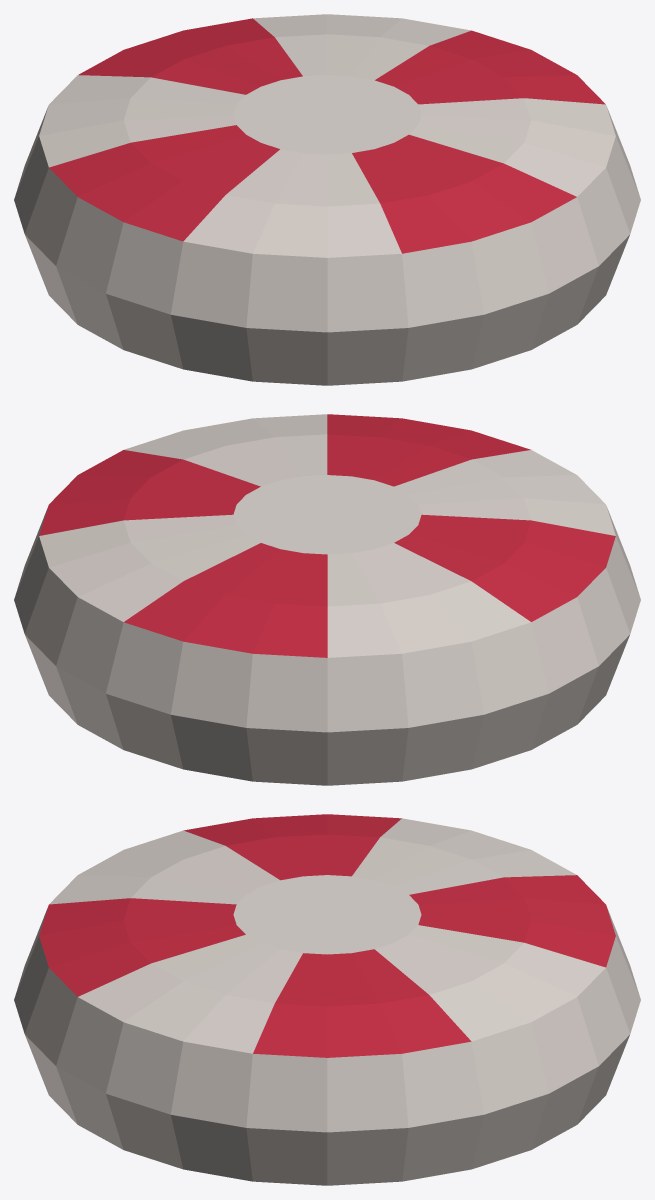
Rendered from Peppermint.glb.
3 views of the same model, one above another, from view 1: azimuth 30°, elevation 25°; view 2: azimuth 150°, elevation 25°; view 3: azimuth 270°, elevation 25° (orthographic).
Visible parts, largest first — view 1: Peppermint; view 2: Peppermint; view 3: Peppermint.
Boxes of the visible parts, x1,y1,x2,y2 form: Peppermint: (14, 14, 640, 385); Peppermint: (14, 414, 640, 785); Peppermint: (14, 814, 640, 1185).
Size of the model in its own units: 3 by 0.9 by 3.
